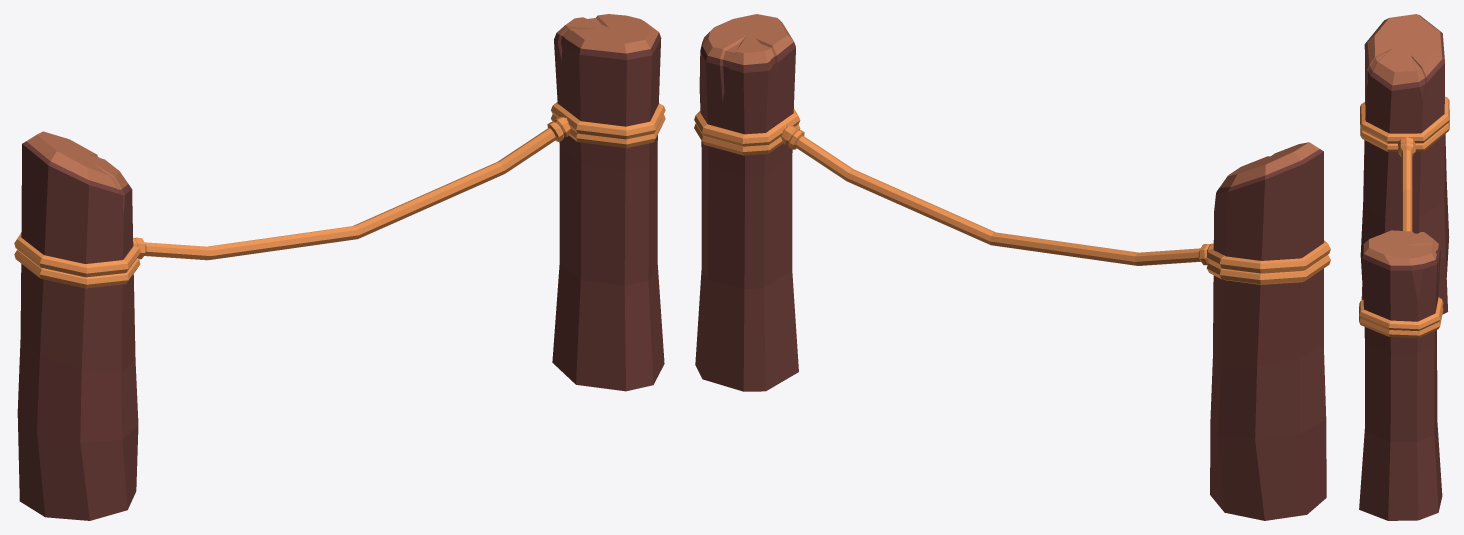
File: Fence Wooden Blunt 01.fbx
3 renders of one model, left to right at view 1: azimuth 30°, elevation 25°; view 2: azimuth 150°, elevation 25°; view 3: azimuth 270°, elevation 25°, orthographic. The views are drawn at different scales.
Parts seen in each view (by area): view 1: Fence Wooden Blunt 01; view 2: Fence Wooden Blunt 01; view 3: Fence Wooden Blunt 01.
Part boxes in pixels (bbox=[...]): Fence Wooden Blunt 01: bbox=[14, 14, 665, 520]; Fence Wooden Blunt 01: bbox=[694, 14, 1330, 520]; Fence Wooden Blunt 01: bbox=[1359, 14, 1449, 520].
Bounding box in the file's own units: 200 × 111 × 32.65.
